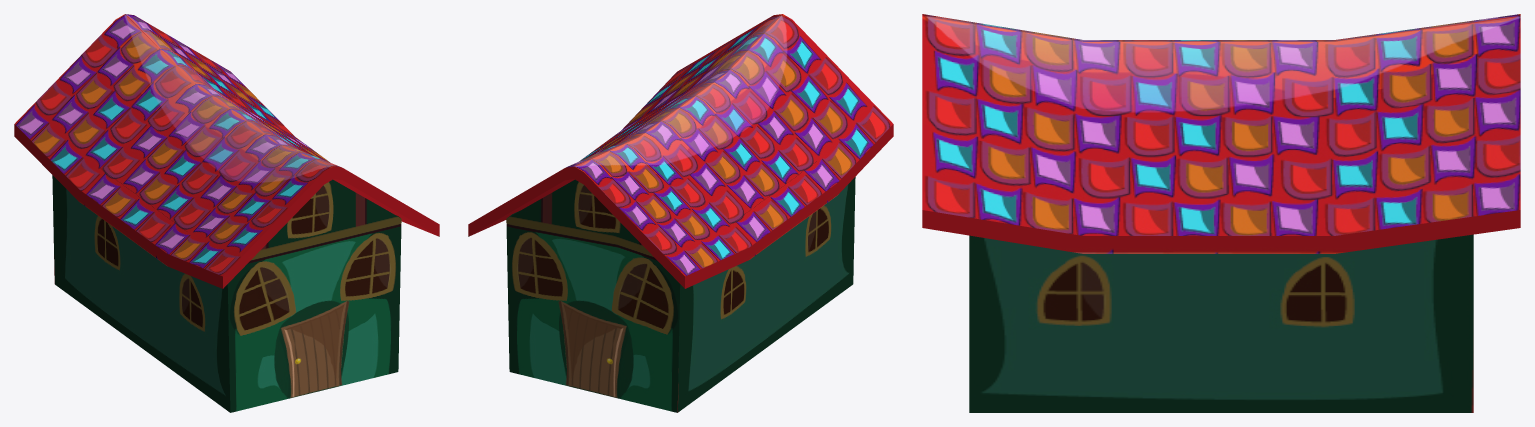
The picture shows the model from 3 angles, left to right: view 1: azimuth 30°, elevation 25°; view 2: azimuth 150°, elevation 25°; view 3: azimuth 270°, elevation 25°; orthographic projection. The views are drawn at different scales.
Parts seen in each view (by area): view 1: final:admin_20170511_1627:polySurface22; view 2: final:admin_20170511_1627:polySurface22; view 3: final:admin_20170511_1627:polySurface22.
Part boxes in pixels (left/top/right/bottom): final:admin_20170511_1627:polySurface22: left=14, top=14, right=439, bottom=412; final:admin_20170511_1627:polySurface22: left=468, top=14, right=893, bottom=412; final:admin_20170511_1627:polySurface22: left=922, top=14, right=1520, bottom=412.
Size of the model in its own units: 1133 by 1186 by 1889.
